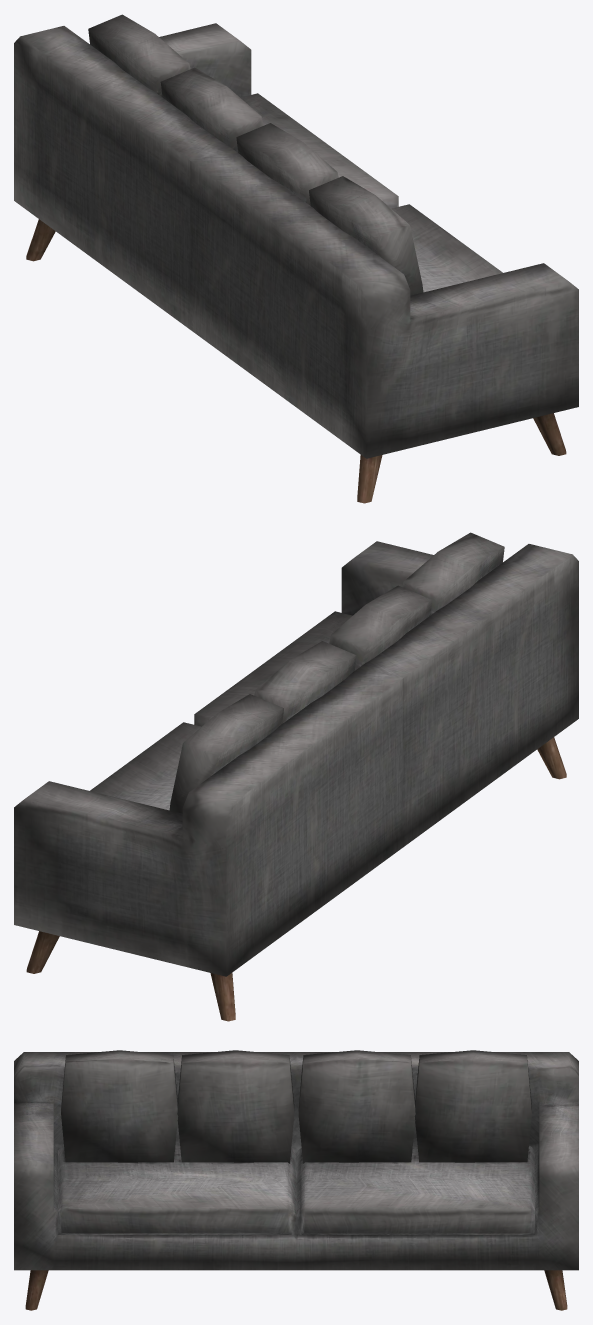
Rendered from couch02.glb.
3 views of the same model, one above another, from view 1: azimuth 30°, elevation 25°; view 2: azimuth 150°, elevation 25°; view 3: azimuth 270°, elevation 25° (orthographic). The views are drawn at different scales.
Visible parts, largest first — view 1: sofa02; view 2: sofa02; view 3: sofa02.
Part boxes in pixels (left/top/right/bottom): sofa02: left=14, top=14, right=578, bottom=503; sofa02: left=14, top=532, right=578, bottom=1021; sofa02: left=14, top=1050, right=578, bottom=1310.
Size of the model in its own units: 0.701 by 0.7779 by 2.
1 material, 1 textured.
